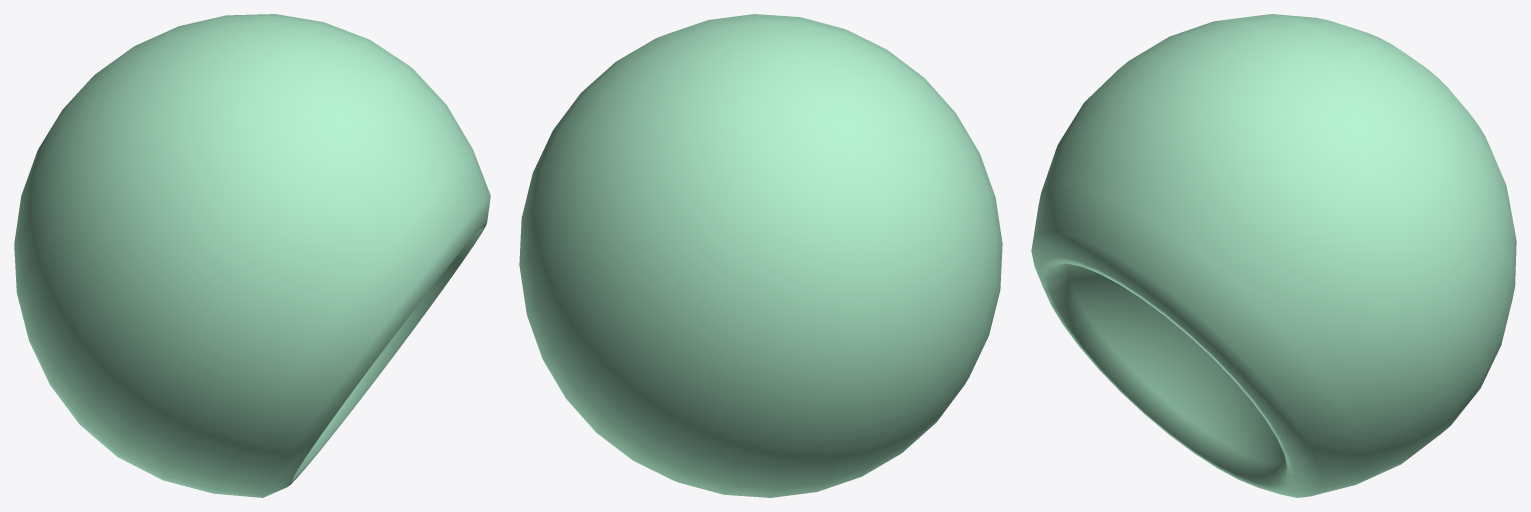
The picture shows the model from 3 angles, left to right: view 1: azimuth 30°, elevation 25°; view 2: azimuth 150°, elevation 25°; view 3: azimuth 270°, elevation 25°; orthographic projection.
Visible parts, largest first — view 1: Sphere_02.002; view 2: Sphere_02.002; view 3: Sphere_02.002.
Boxes of the visible parts, bbox=[...] form: Sphere_02.002: bbox=[14, 14, 490, 497]; Sphere_02.002: bbox=[519, 14, 1002, 497]; Sphere_02.002: bbox=[1031, 14, 1516, 497].
Bounding box in the file's own units: 3.03 × 3.03 × 3.03.
